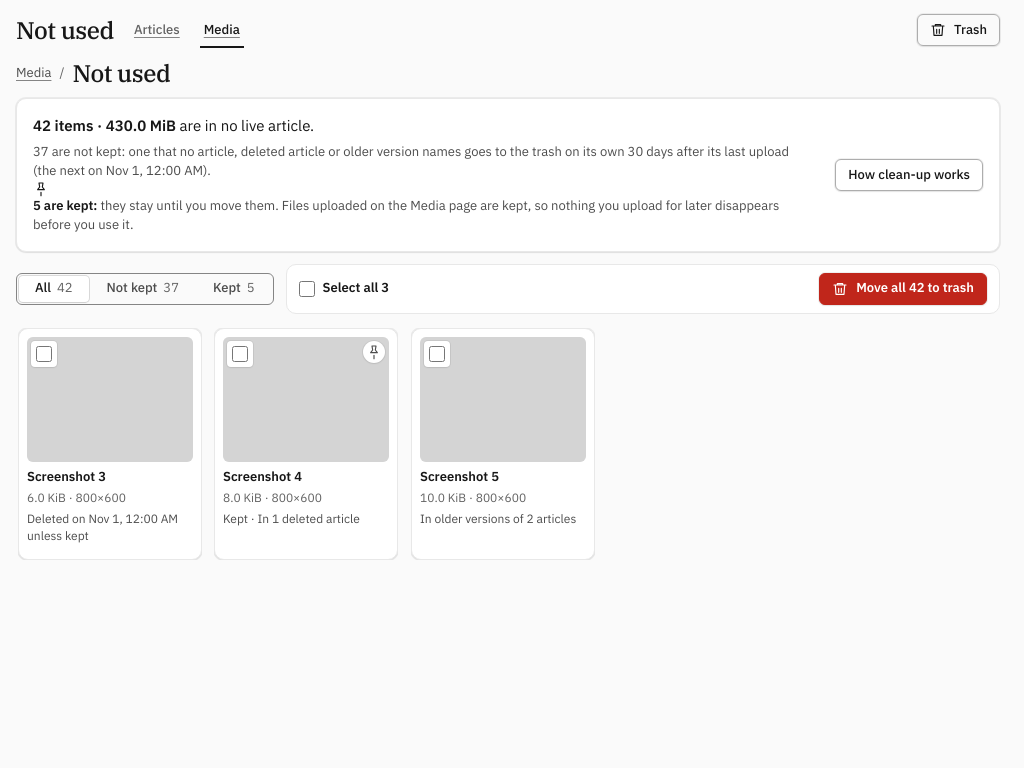
Test: kept items never lock the clean-up: all of them can go, and the confirmation says the kept ones go too
What coordinates should you click on to do the following:
click the button "Move all 42 to trash"
I would click on:
 (903, 288)
Its box is [819,272,987,304].
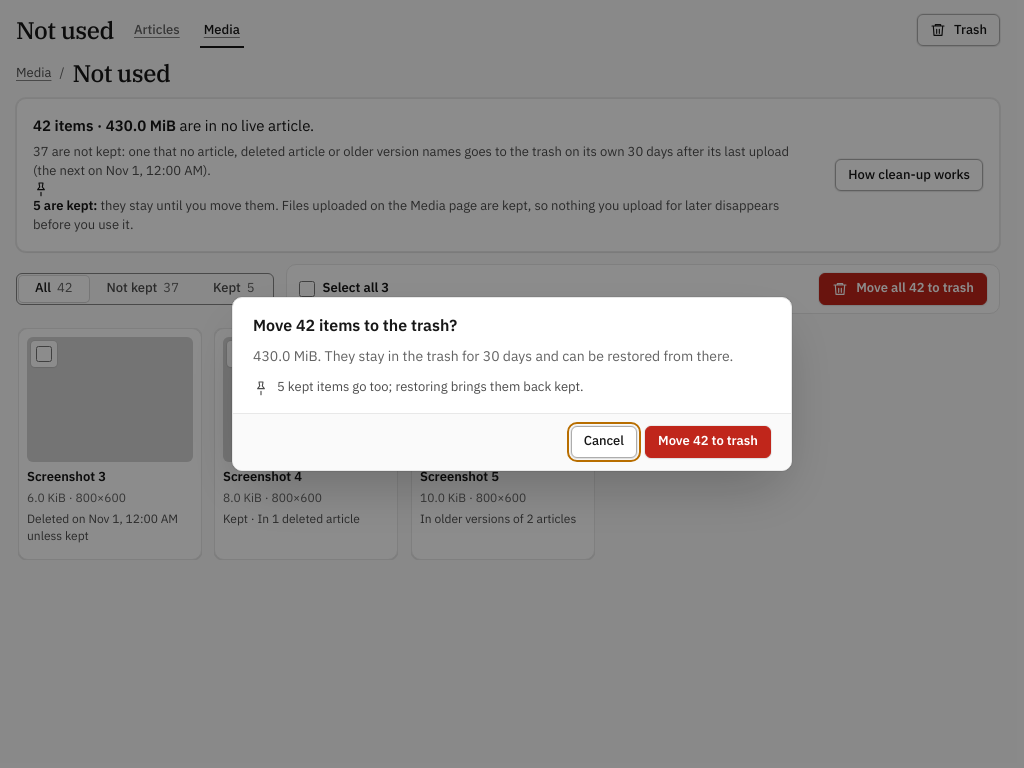
Result: the dialog "Move 42 items to the trash?" shows "5 kept items go too; restoring brings them back kept." at [277,378,584,395]
What coordinates should you click on to do the following:
click the button "Move 42 to trash"
I would click on:
 (708, 442)
Its box is [645,426,771,458].
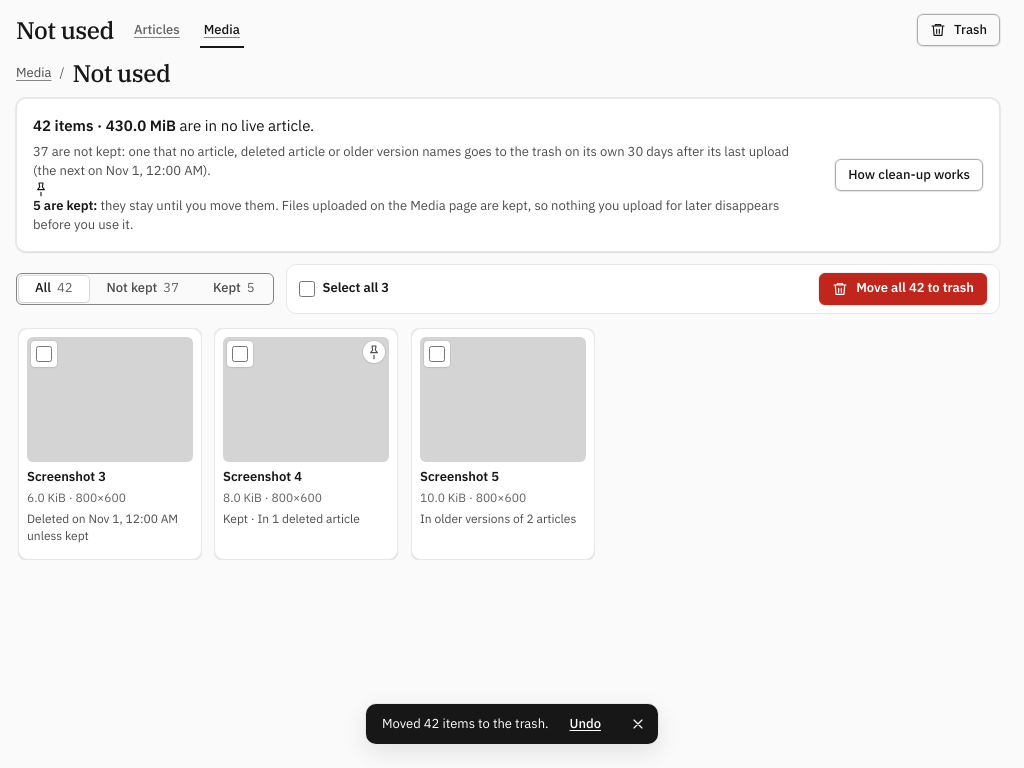
Result: the text "Moved 42 items to the trash." is shown at [382,715,549,733]
What coordinates should you click on to do the following:
click the radio button labelled "Kept 5"
I would click on:
 (234, 288)
Its box is [213,279,255,296].
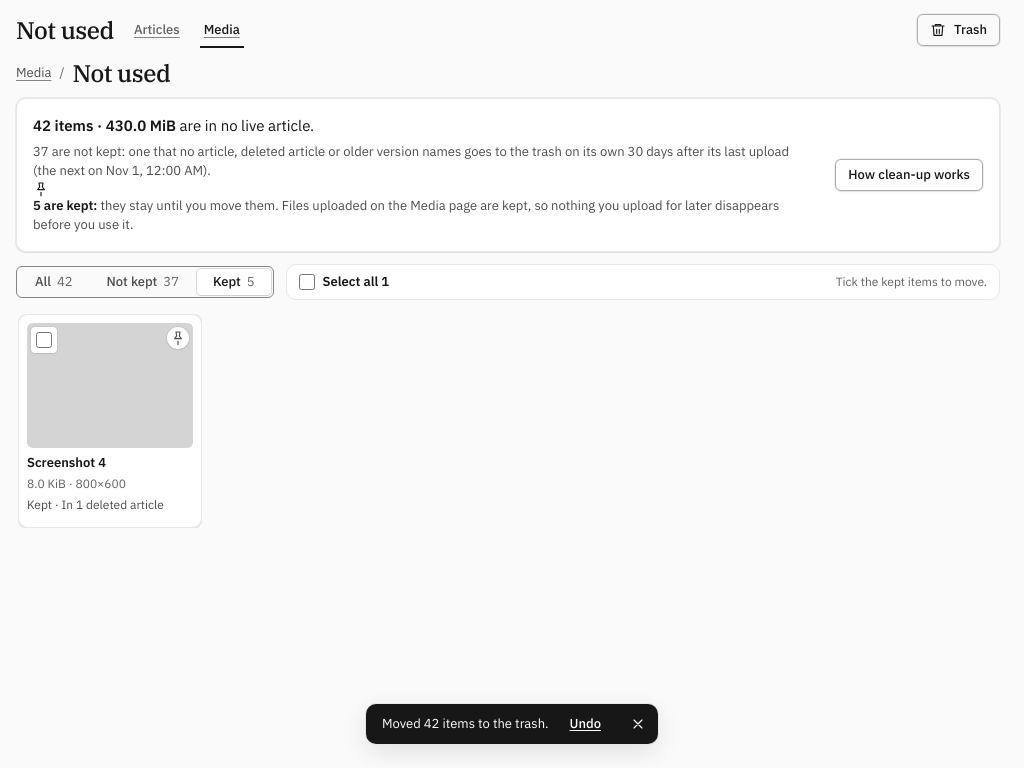
What coordinates should you click on to do the following:
click the checkbox named "Select Screenshot 4"
I would click on:
 (44, 340)
Its box is [36,332,52,348].
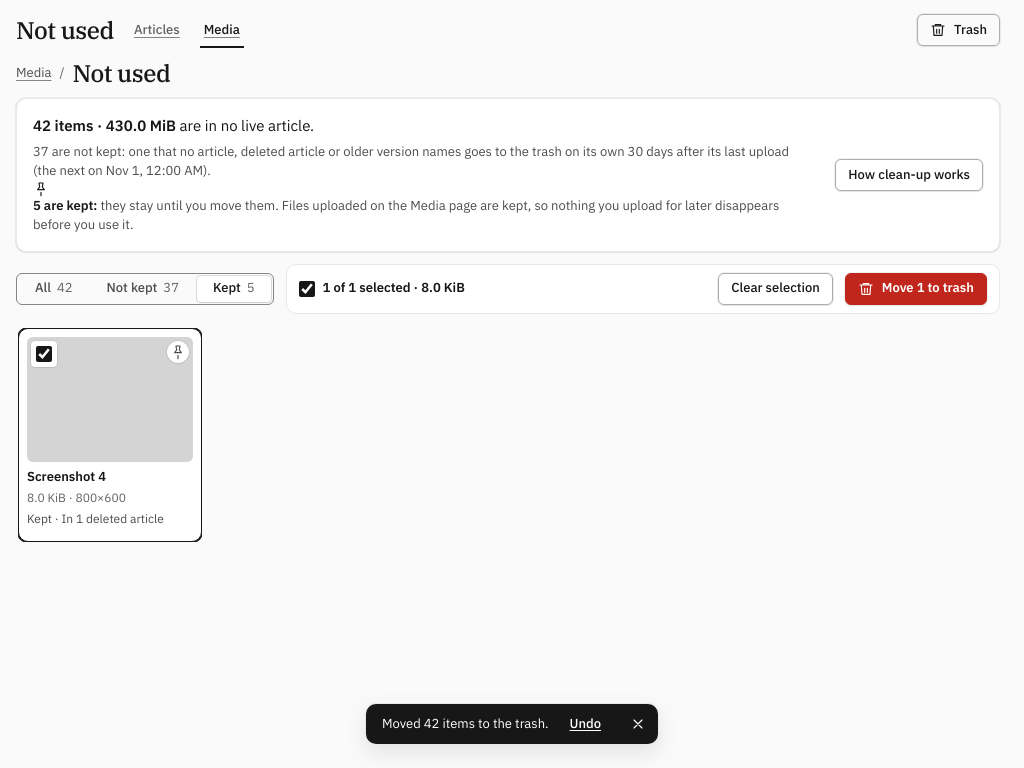
Result: the button "Move 1 to trash" is enabled at [845,272,987,304]
